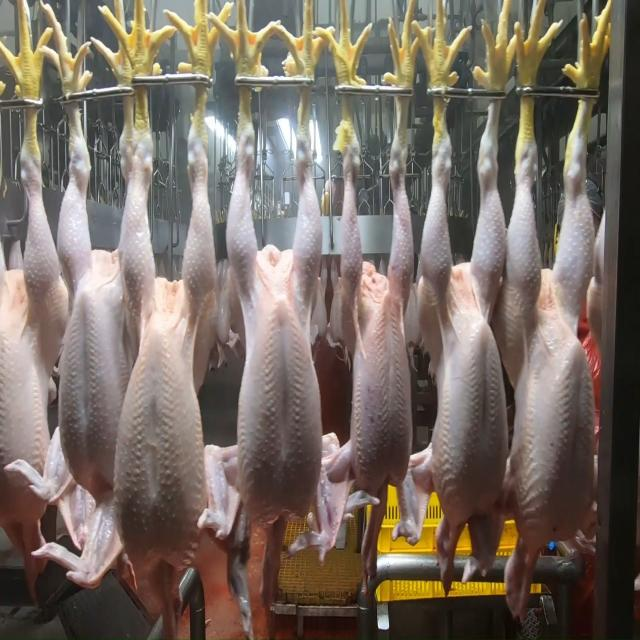chicken: (114, 116, 216, 556), (412, 101, 509, 537), (224, 124, 325, 536), (509, 144, 601, 549), (59, 140, 138, 492), (345, 137, 414, 494), (0, 121, 59, 519)
